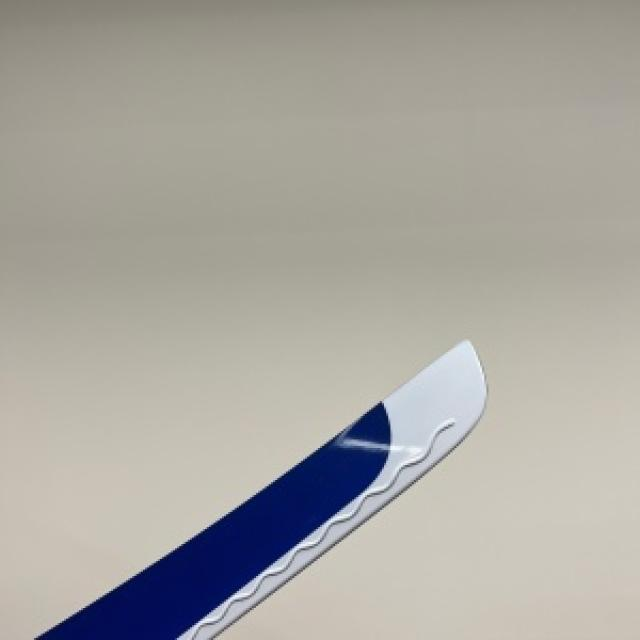healthy: (36, 339, 484, 638)
